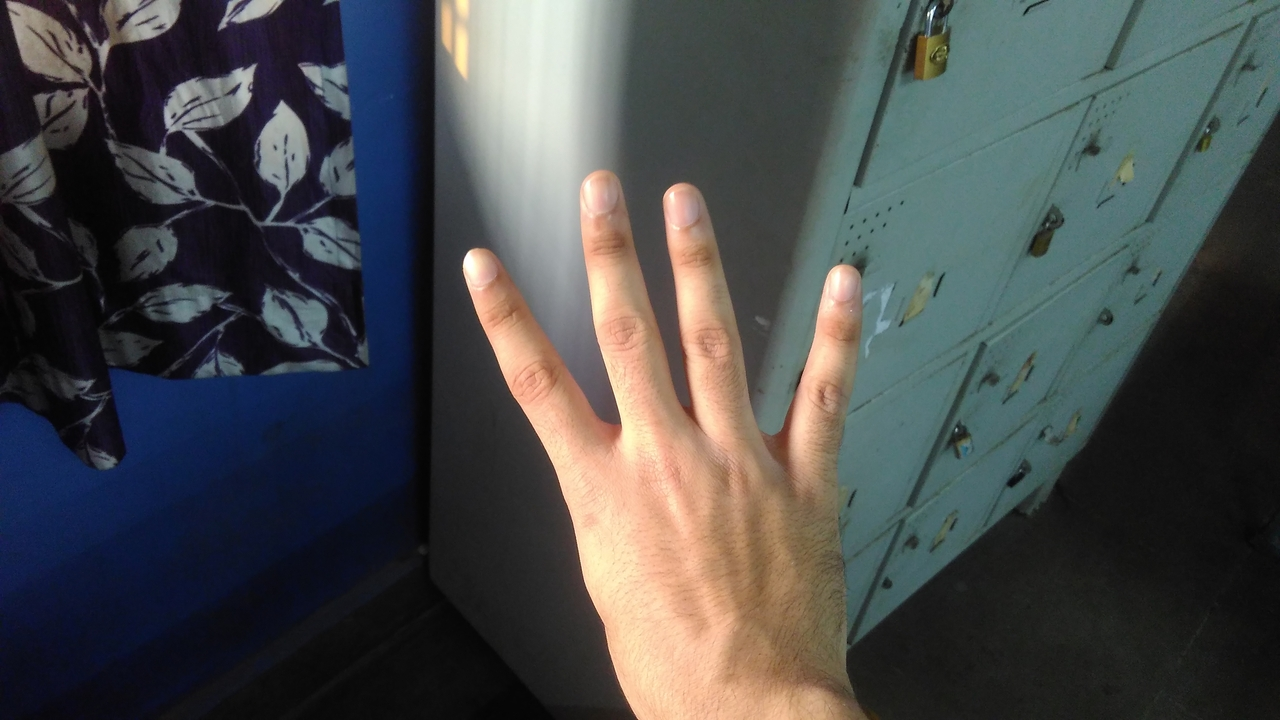fingertip: (446, 238, 510, 300), (570, 166, 632, 228), (650, 174, 714, 232), (818, 254, 876, 316)
